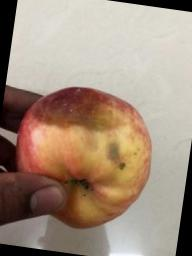Apple Overripe: (0, 64, 171, 252)
